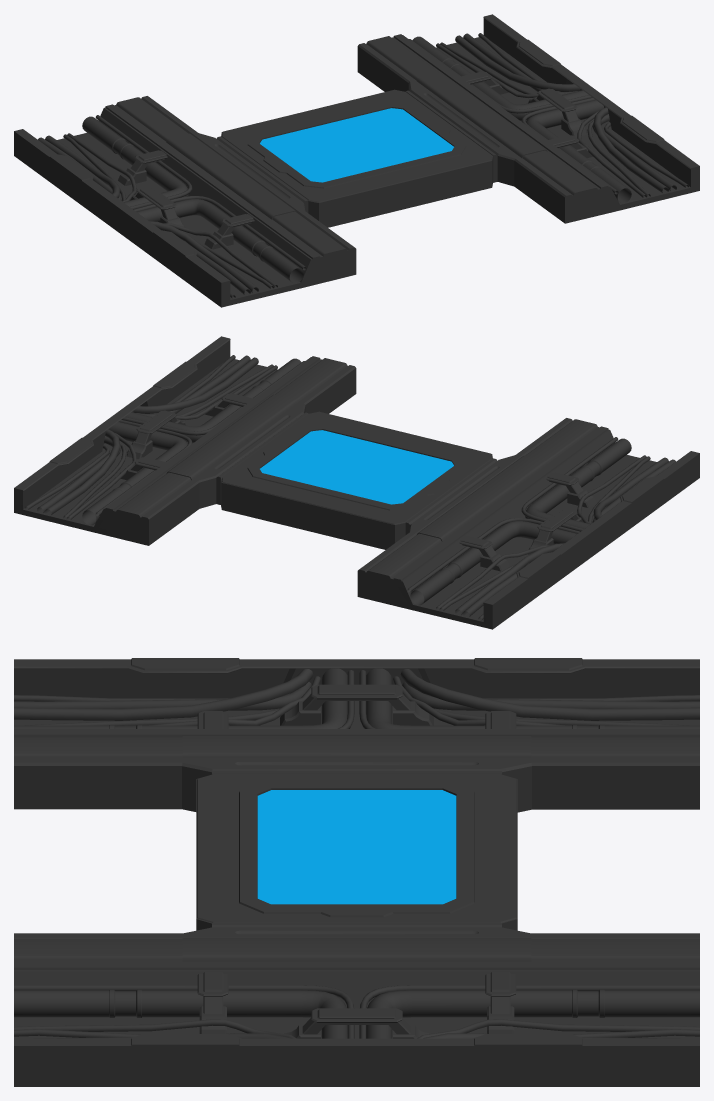
The model's file is SM_Floor_B_cut.fbx.
The picture shows the model from 3 angles, top to bottom: view 1: azimuth 30°, elevation 25°; view 2: azimuth 150°, elevation 25°; view 3: azimuth 270°, elevation 25°; orthographic projection. The views are drawn at different scales.
Visible parts, largest first — view 1: SM_Floor_B_cut_LOD0; view 2: SM_Floor_B_cut_LOD0; view 3: SM_Floor_B_cut_LOD0.
Boxes of the visible parts, box(x1,y1,x2,y2) form: SM_Floor_B_cut_LOD0: box(14, 14, 699, 307); SM_Floor_B_cut_LOD0: box(14, 336, 699, 629); SM_Floor_B_cut_LOD0: box(14, 658, 699, 1086).
Bounding box in the file's own units: 400 × 300 × 23.56.
